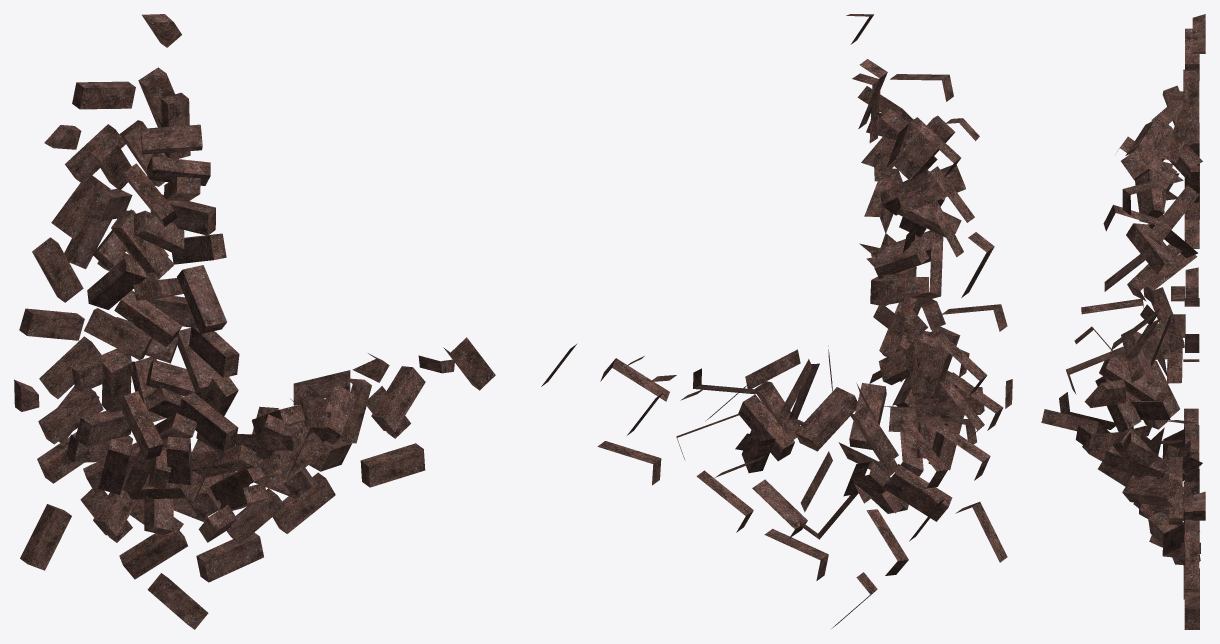
Rendered from prop_redbrickpile_corner_out_debris_02.glb.
3 views of the same model, side by side, from view 1: azimuth 30°, elevation 25°; view 2: azimuth 150°, elevation 25°; view 3: azimuth 270°, elevation 25° (orthographic). The views are drawn at different scales.
Bounding box in the file's own units: 121 × 151 × 38.1.
Materials: 1 (1 with a texture image).
